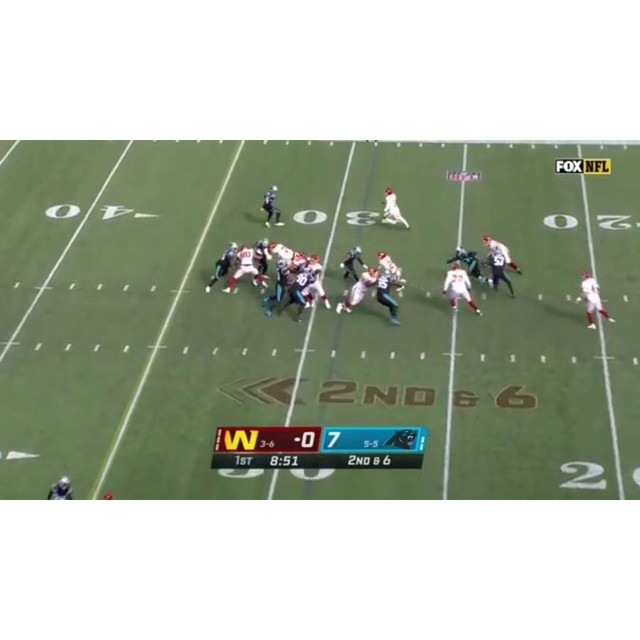american-football-player: (223, 243, 264, 297), (576, 271, 614, 329), (442, 262, 482, 316), (336, 266, 379, 315), (485, 244, 519, 299), (261, 258, 293, 315), (205, 242, 240, 293), (481, 233, 521, 277), (283, 269, 315, 322), (374, 268, 403, 325), (305, 255, 331, 309), (382, 188, 410, 230), (377, 251, 406, 290), (261, 185, 284, 228), (252, 238, 272, 284), (339, 248, 366, 280), (271, 241, 294, 265)
